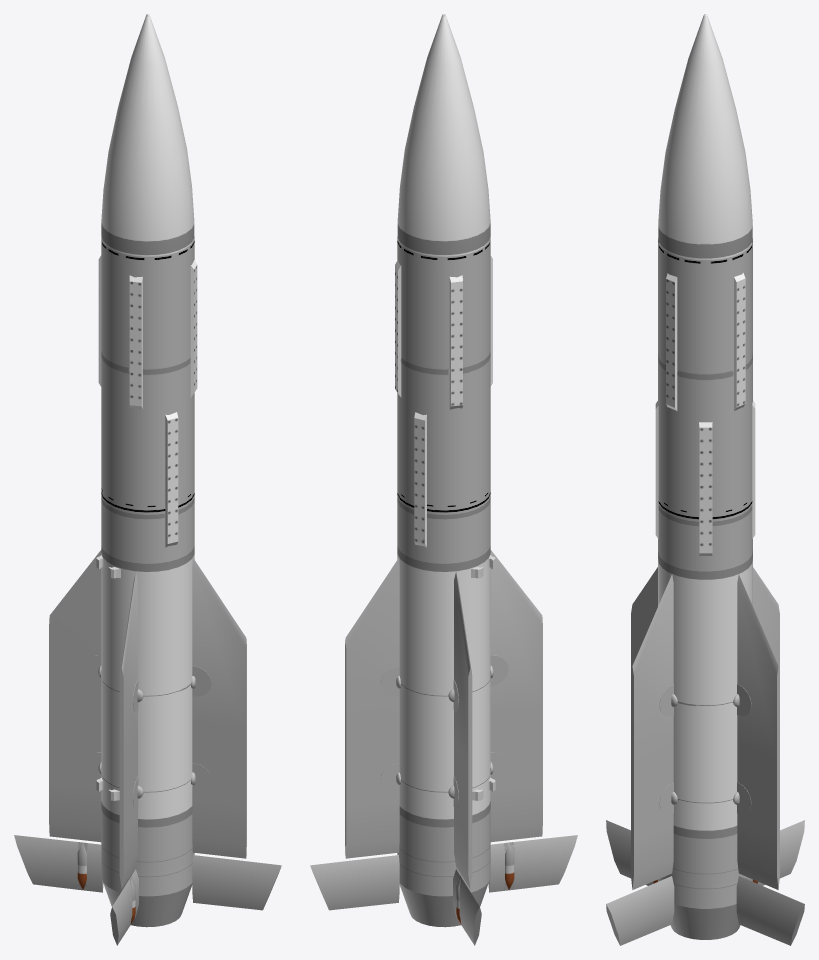
The picture shows the model from 3 angles, left to right: view 1: azimuth 30°, elevation 25°; view 2: azimuth 150°, elevation 25°; view 3: azimuth 270°, elevation 25°; orthographic projection.
Parts seen in each view (by area): view 1: R-33_Vympel_Cube; view 2: R-33_Vympel_Cube; view 3: R-33_Vympel_Cube.
Boxes of the visible parts, x1,y1,x2,y2 form: R-33_Vympel_Cube: [14, 14, 281, 945]; R-33_Vympel_Cube: [310, 14, 577, 945]; R-33_Vympel_Cube: [606, 14, 804, 945].
Size of the model in its own units: 0.8207 by 4.15 by 0.8207.
1 material, 1 textured.
